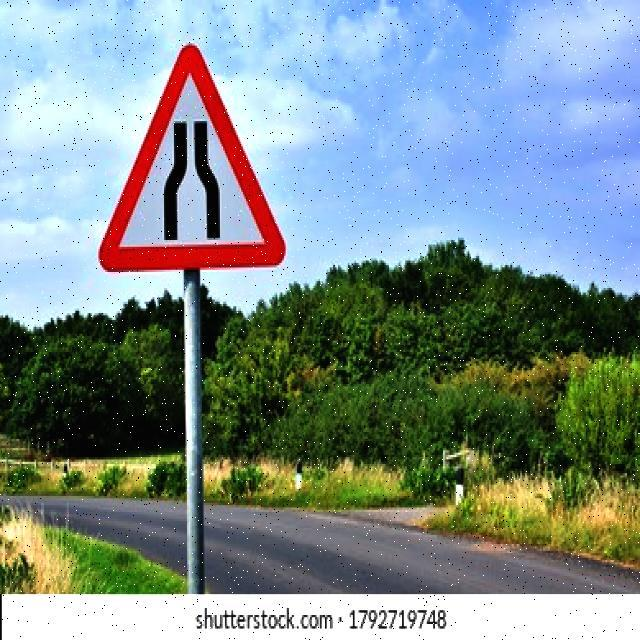Traffic sign: (89, 36, 293, 278)
